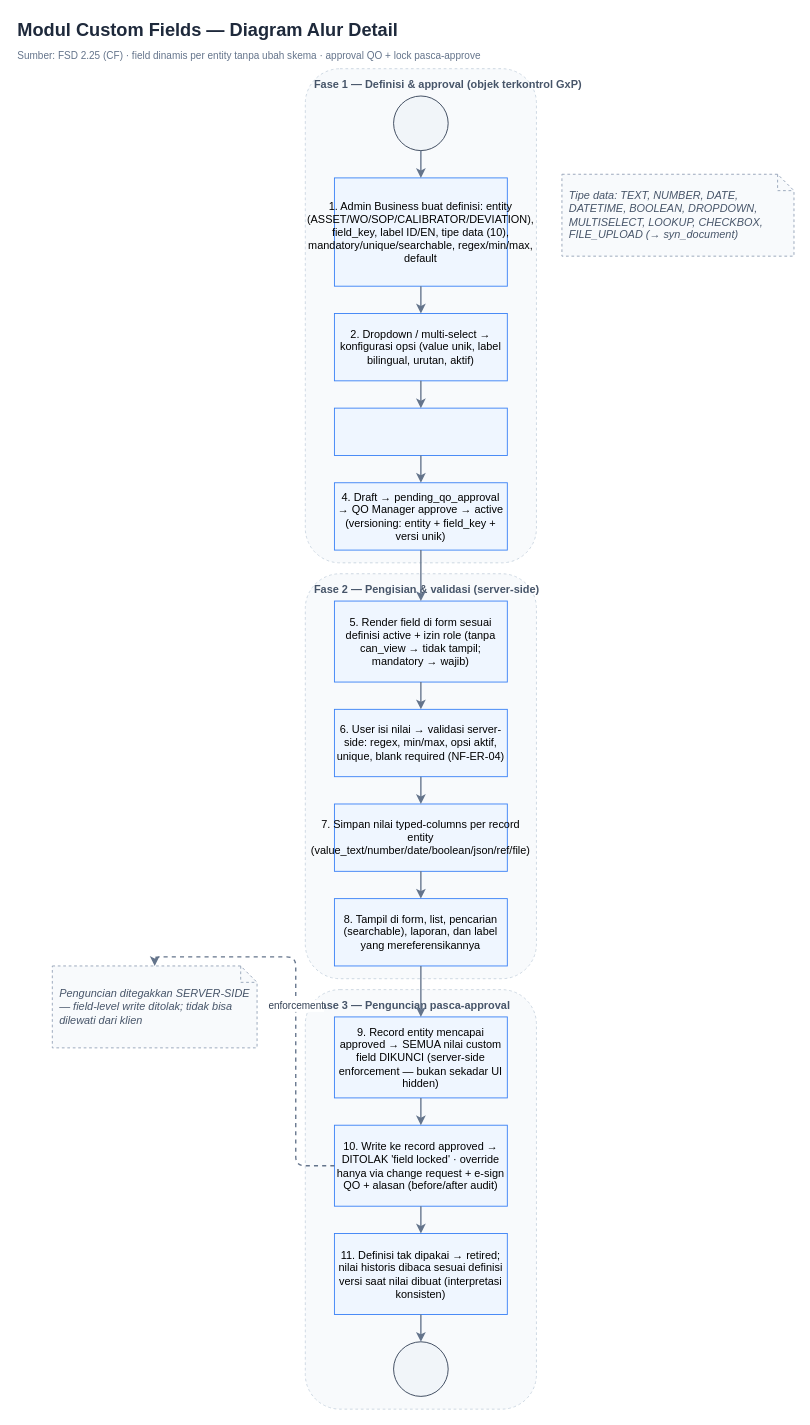
Some shapes in this 810 by 1425 pixel diagram are drawn without their labels. Here are the shapes that lost their labels. From the top down, the centre of each, then its label:
point 420,123: Mulai
point 420,431: 3. Izin per role: can_view / can_edit per definisi
point 420,1368: Selesai
